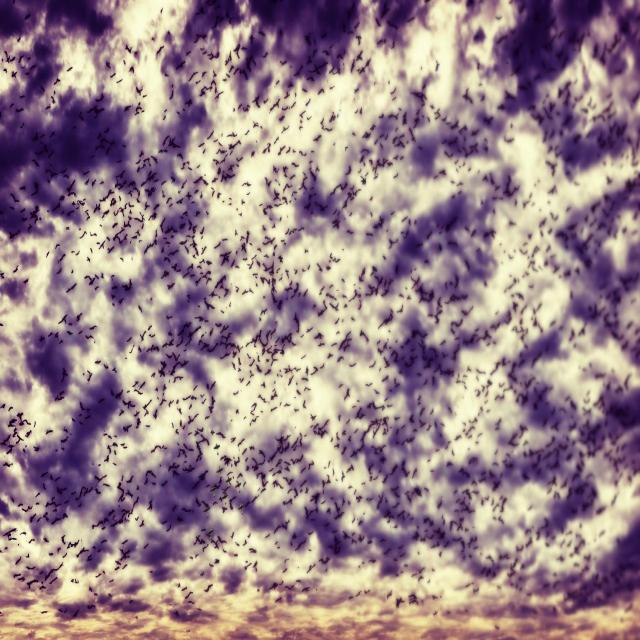airplane: (208, 482, 217, 498), (213, 441, 221, 457), (234, 479, 242, 495), (237, 500, 245, 516), (224, 475, 232, 489), (202, 505, 210, 519), (206, 526, 214, 540), (216, 464, 222, 478)
